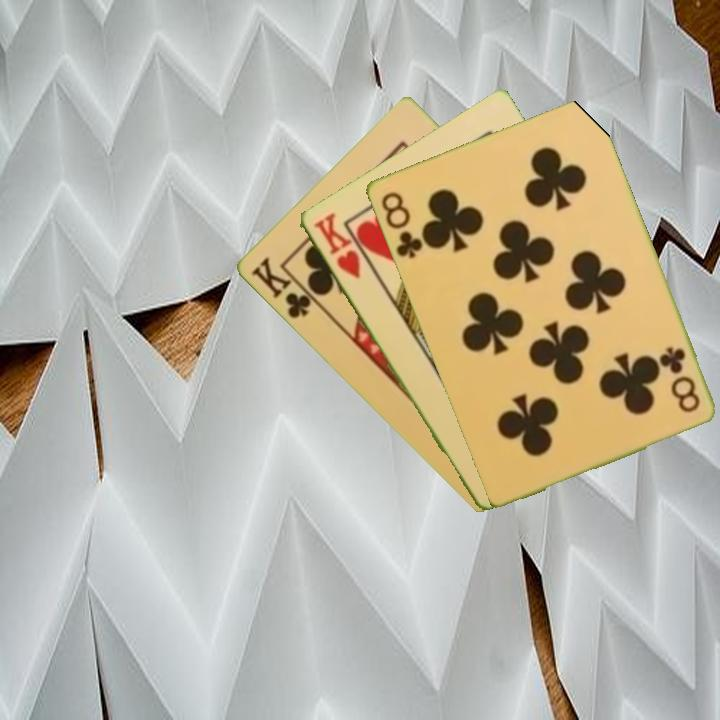8c: (377, 188, 425, 262), (655, 343, 703, 415)
Kc: (247, 254, 323, 322)
Kh: (309, 209, 363, 281)
